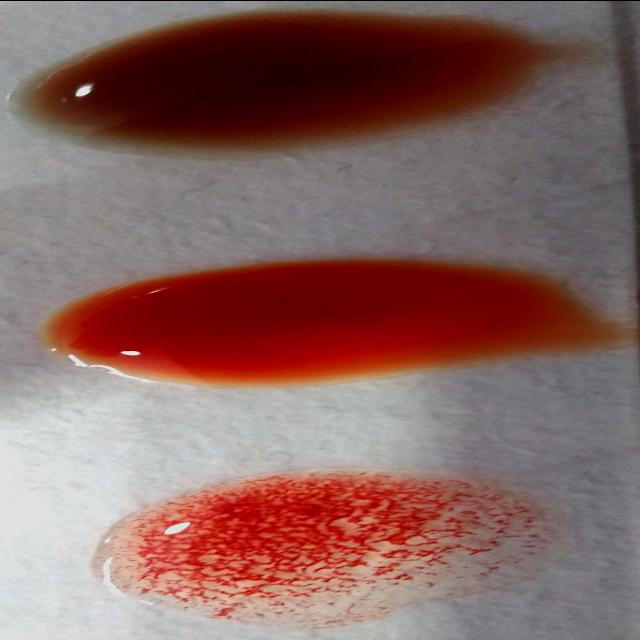D: (104, 472, 562, 620)
